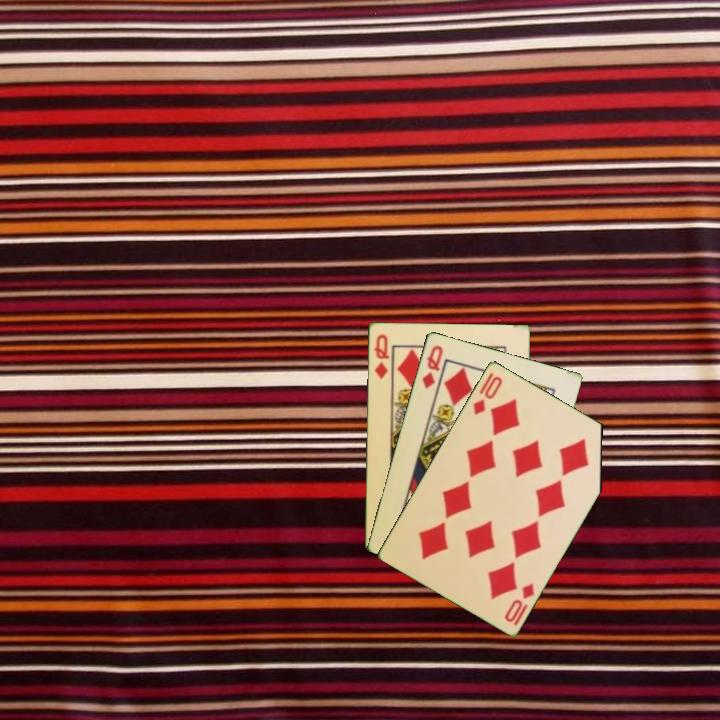10d: (501, 579, 537, 628), (469, 372, 505, 418)
Qd: (418, 341, 446, 391), (370, 331, 392, 381)
